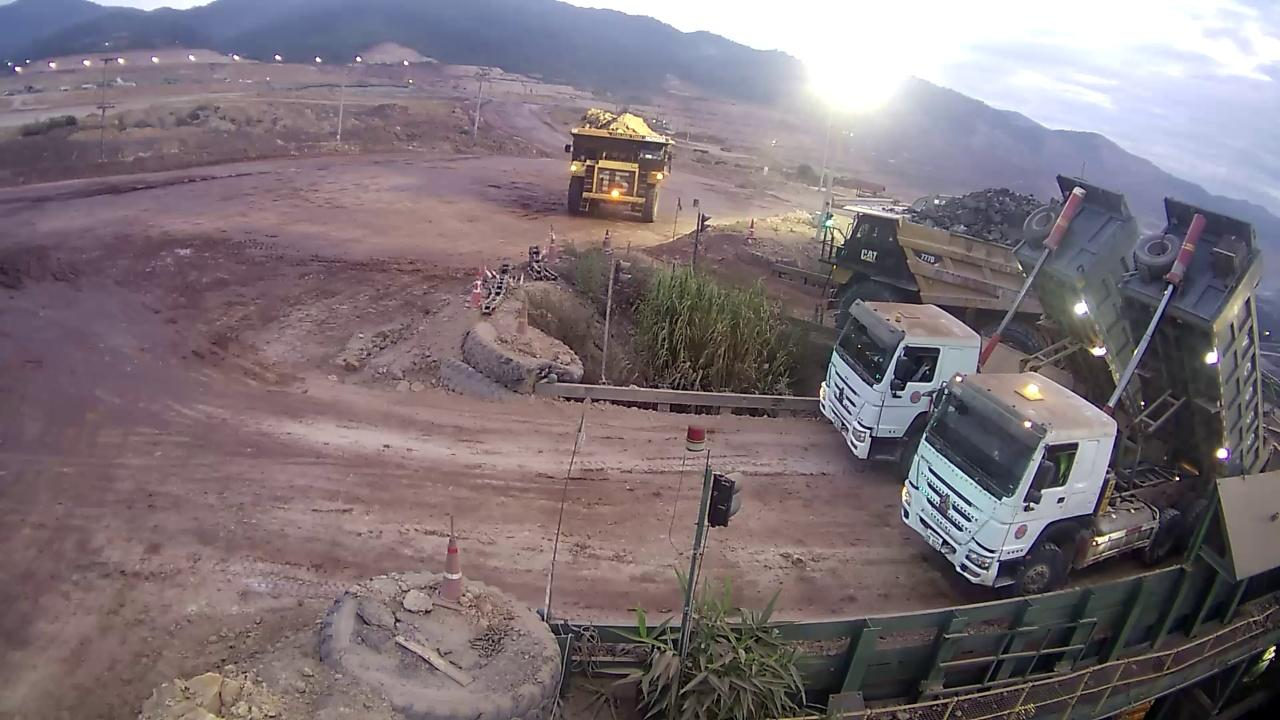front_number: (593, 167, 636, 197)
full_load: (912, 170, 1057, 241), (583, 101, 677, 139)
mining_truck: (809, 162, 1072, 328), (563, 97, 682, 227)
